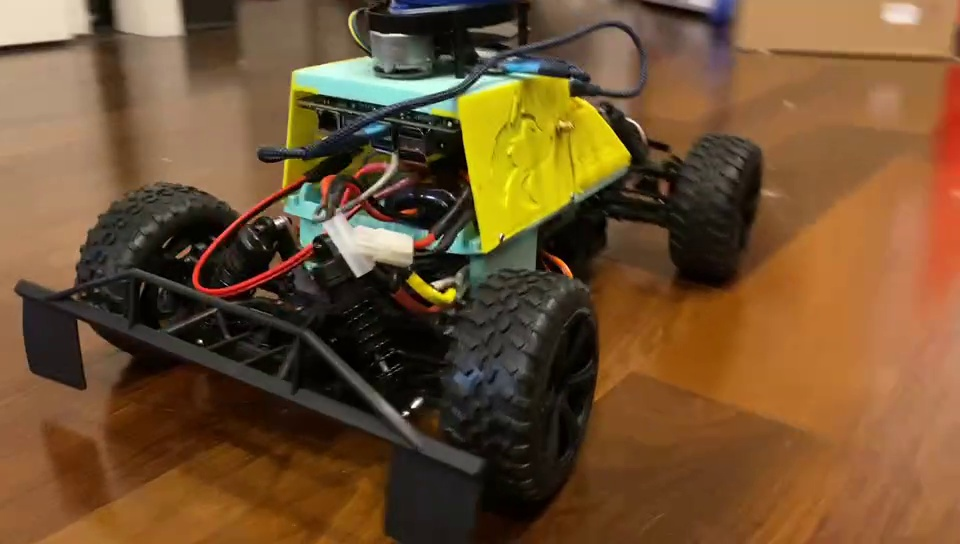mushr_car: (3, 1, 766, 544)
